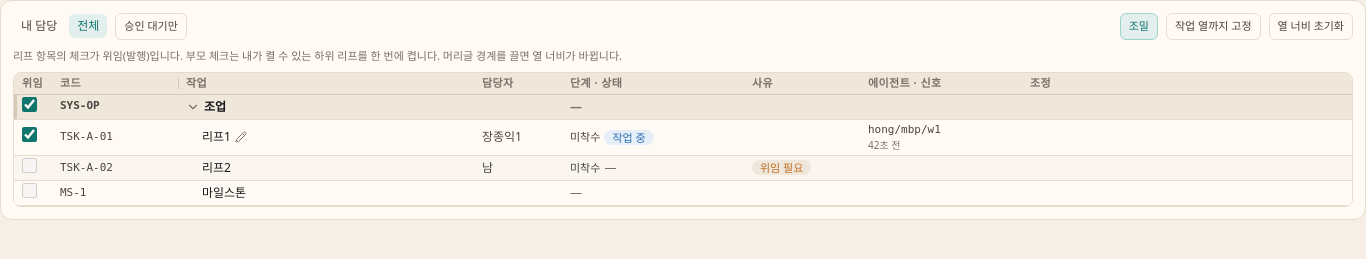
Test: DelegationTable — 체크는 즉시 표시·잠기지 않음, 1.5초 모아 묶음 1건, 응답의 허브로 교체(2026-09-14 체크 지연 개선) › 항목 실패 → 그 행만 서버값으로 되돌리고 행에 오류; warning 은 행 아래 문구
Click the checkbox named "TSK-A-01 위임": [30, 135] box x1=22 y1=127 x2=37 y2=142
Wait 1500 ms
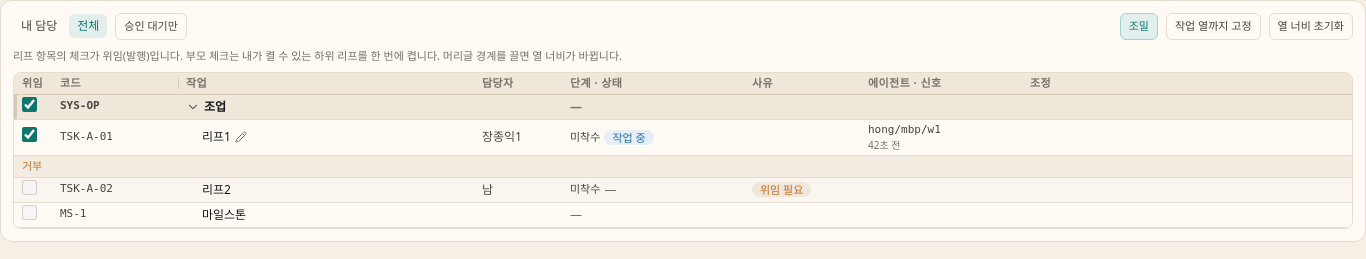
Click the checkbox named "TSK-A-01 위임": [30, 135] box x1=22 y1=127 x2=37 y2=142
Wait 1500 ms
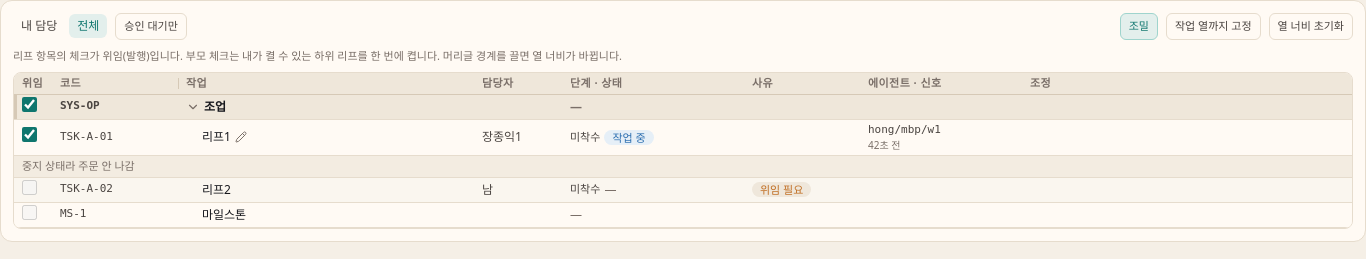
Expected: the text "중지 상태라 주문 안 나감" is shown, x1=22 y1=158 x2=135 y2=173
